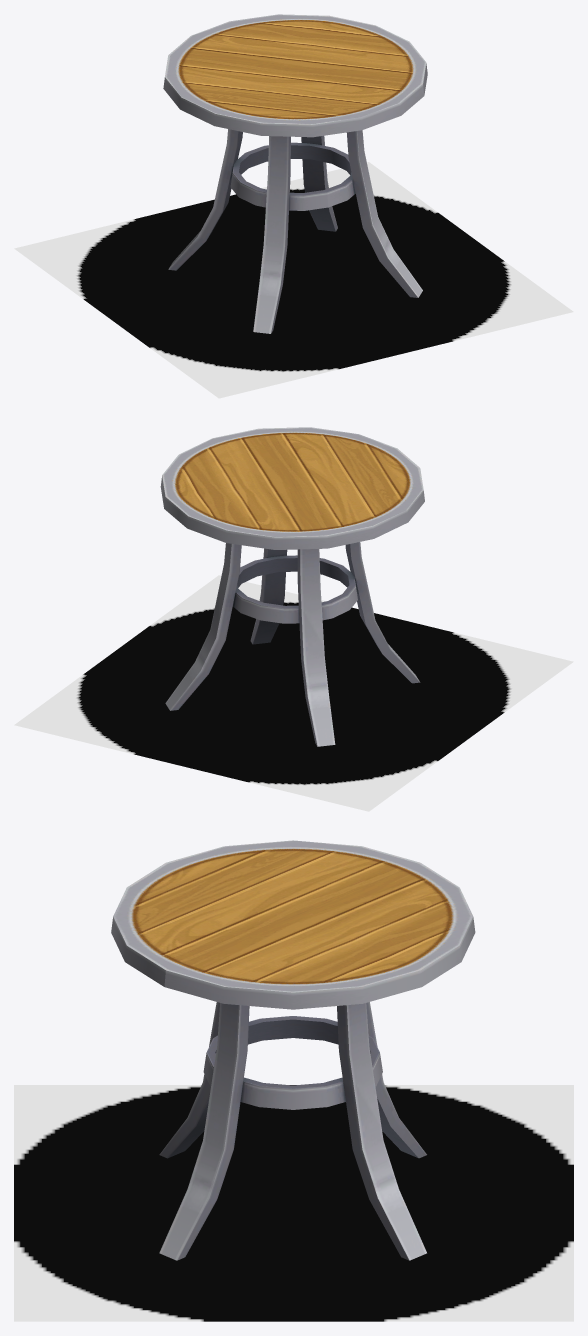
File: jj_ty_table04_01.FBX
3 views of the same model, one above another, from view 1: azimuth 30°, elevation 25°; view 2: azimuth 150°, elevation 25°; view 3: azimuth 270°, elevation 25° (orthographic). The views are drawn at different scales.
Parts seen in each view (by area): view 1: shadow, jj_ty_table04; view 2: shadow, jj_ty_table04; view 3: shadow, jj_ty_table04.
Boxes of the visible parts, x1,y1,x2,y2 form: shadow: (14,162,573,398); jj_ty_table04: (163,14,427,333); shadow: (14,575,573,811); jj_ty_table04: (160,427,424,746); shadow: (14,1085,573,1321); jj_ty_table04: (111,840,475,1260).
Size of the model in its own units: 59.06 by 33.79 by 59.06.
